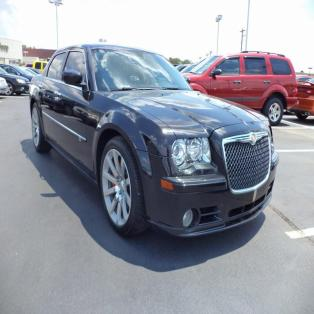Auto: (29, 43, 281, 242)
